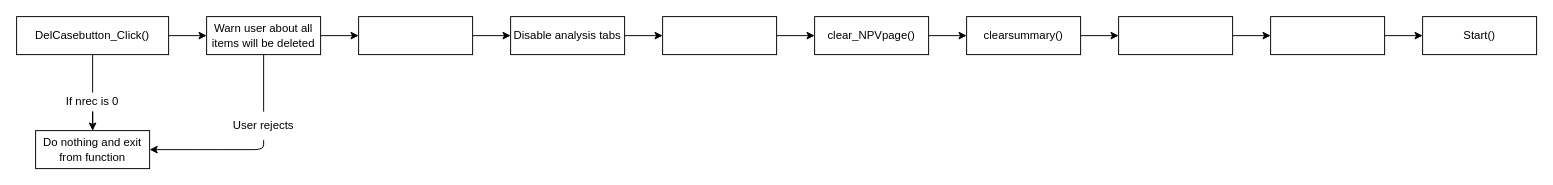
Image size: 1553x185. Some labels were removed from this diagram. The centre of each missing label's shape, as x and y in pixels:
"clear_Engpage()" belongs at point 719,35.
"DElcase()" belongs at point 415,35.
"resetAll()" belongs at point 1327,35.
"unloadforms()" belongs at point 1175,35.
